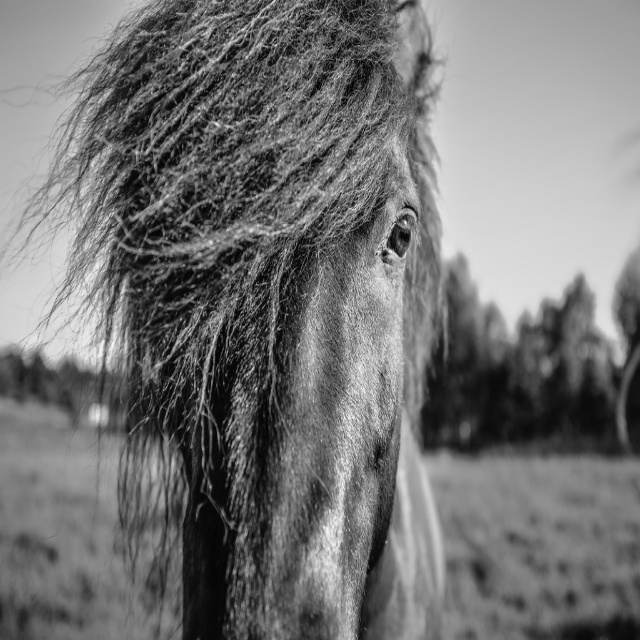Horse: (0, 0, 449, 639)
